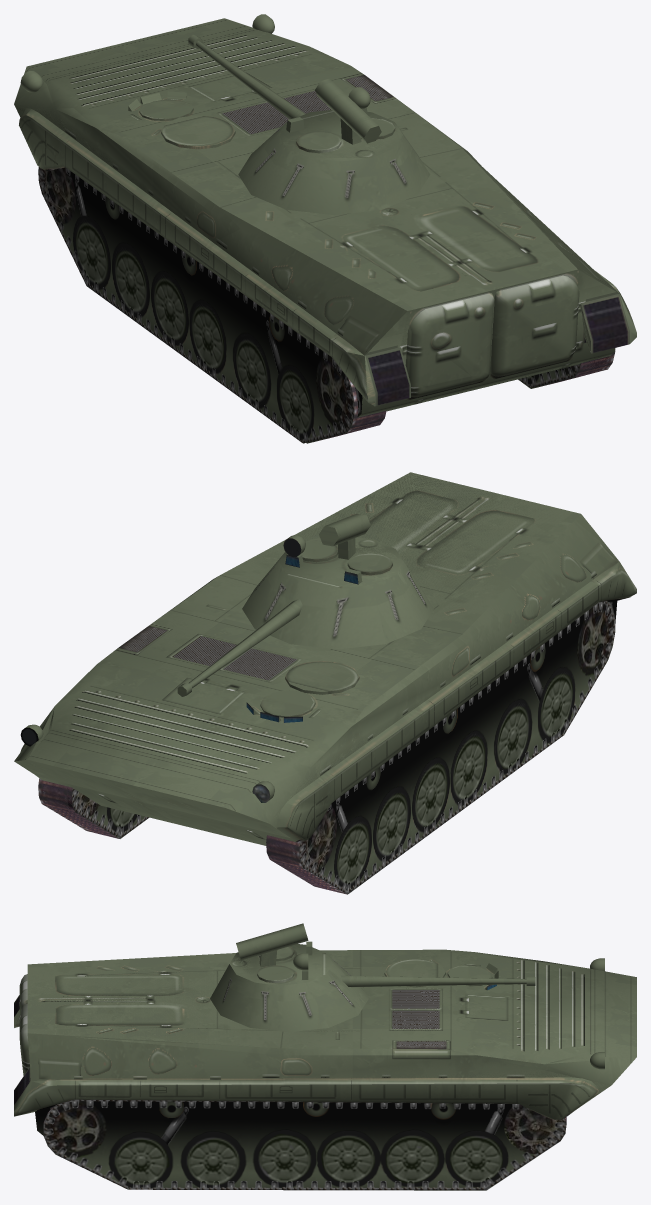
The model's file is testBMP.glb.
3 renders of one model, top to bottom at view 1: azimuth 30°, elevation 25°; view 2: azimuth 150°, elevation 25°; view 3: azimuth 270°, elevation 25°, orthographic. The views are drawn at different scales.
Parts seen in each view (by area): view 1: hull_1, hull_19, lft_cleat_14, turret_7, aft_door_3, hull_12, aft_door_2, aft_door_01, turret_8, commander_coupola_9, agtm_3, barrel_8 (+4 smaller); view 2: hull_1, hull_19, lft_cleat_14, turret_7, hull_12, commander_coupola_9, rgt_cleat, barrel_8, turret_8, rgt_cleat_4, driver_coupola_10, agtm_3 (+4 smaller); view 3: hull_1, rgt_cleat_10, hull_19, turret_7, hull_12, barrel_8, agtm_3, turret_8, commander_coupola_9, driver_coupola_31, driver_coupola_10, aft_door_3.
Part boxes in pixels (box(x1,y1,x2,y2)): hull_1: box(14, 18, 636, 406); hull_19: box(119, 75, 619, 417); lft_cleat_14: box(38, 167, 354, 443); turret_7: box(238, 110, 430, 215); aft_door_3: box(490, 275, 579, 376); hull_12: box(14, 22, 611, 416); aft_door_2: box(405, 293, 493, 397); aft_door_01: box(408, 293, 494, 389); turret_8: box(279, 112, 402, 157); commander_coupola_9: box(161, 115, 235, 149); agtm_3: box(315, 78, 381, 143); barrel_8: box(188, 34, 305, 119); hull_1: box(20, 472, 636, 842); hull_19: box(15, 472, 619, 837); lft_cleat_14: box(299, 601, 615, 894); turret_7: box(242, 537, 433, 649); hull_12: box(14, 597, 630, 845); commander_coupola_9: box(285, 660, 359, 694); rgt_cleat: box(43, 782, 149, 838); barrel_8: box(177, 598, 302, 696); turret_8: box(280, 539, 403, 584); rgt_cleat_4: box(38, 778, 114, 837); driver_coupola_10: box(260, 690, 313, 717); agtm_3: box(319, 513, 370, 546); hull_1: box(14, 949, 636, 1119); rgt_cleat_10: box(43, 1099, 566, 1190); hull_19: box(27, 949, 615, 1135); turret_7: box(210, 944, 368, 1032); hull_12: box(14, 953, 636, 1097); barrel_8: box(341, 975, 535, 987); agtm_3: box(236, 923, 308, 960); turret_8: box(230, 945, 332, 982); commander_coupola_9: box(384, 959, 445, 987); driver_coupola_31: box(257, 965, 294, 983); driver_coupola_10: box(448, 966, 492, 986); aft_door_3: box(19, 1003, 29, 1075).
Size of the model in its own units: 2.74 by 2.49 by 6.64.
113 materials, 113 textured.
